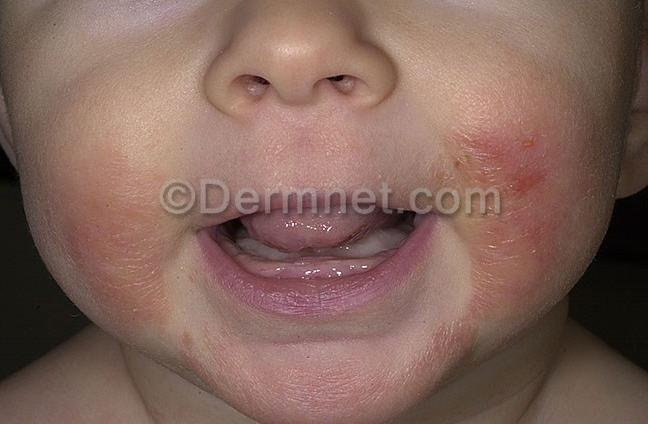Eritema 2: (426, 111, 576, 320)
eritema 1: (69, 146, 171, 323)
xerosis 1: (200, 310, 483, 424)
